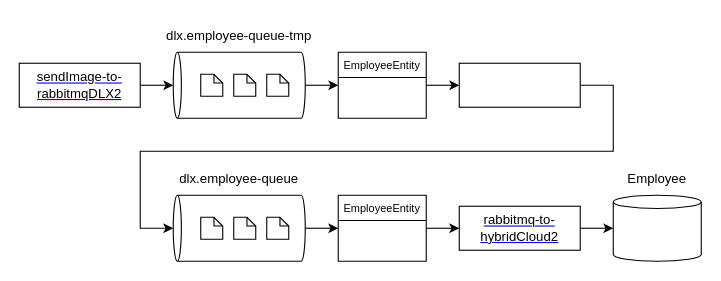
The diagram is 721 pixels wide and 281 high, and some of its shapes have lost their labels. Here are the shapes that lost their labels. From the top down, the centre of each, then its label:
the point at 519,84: rabbitmq-to-faceDetectedMQ
the point at 656,227: MongoDB
